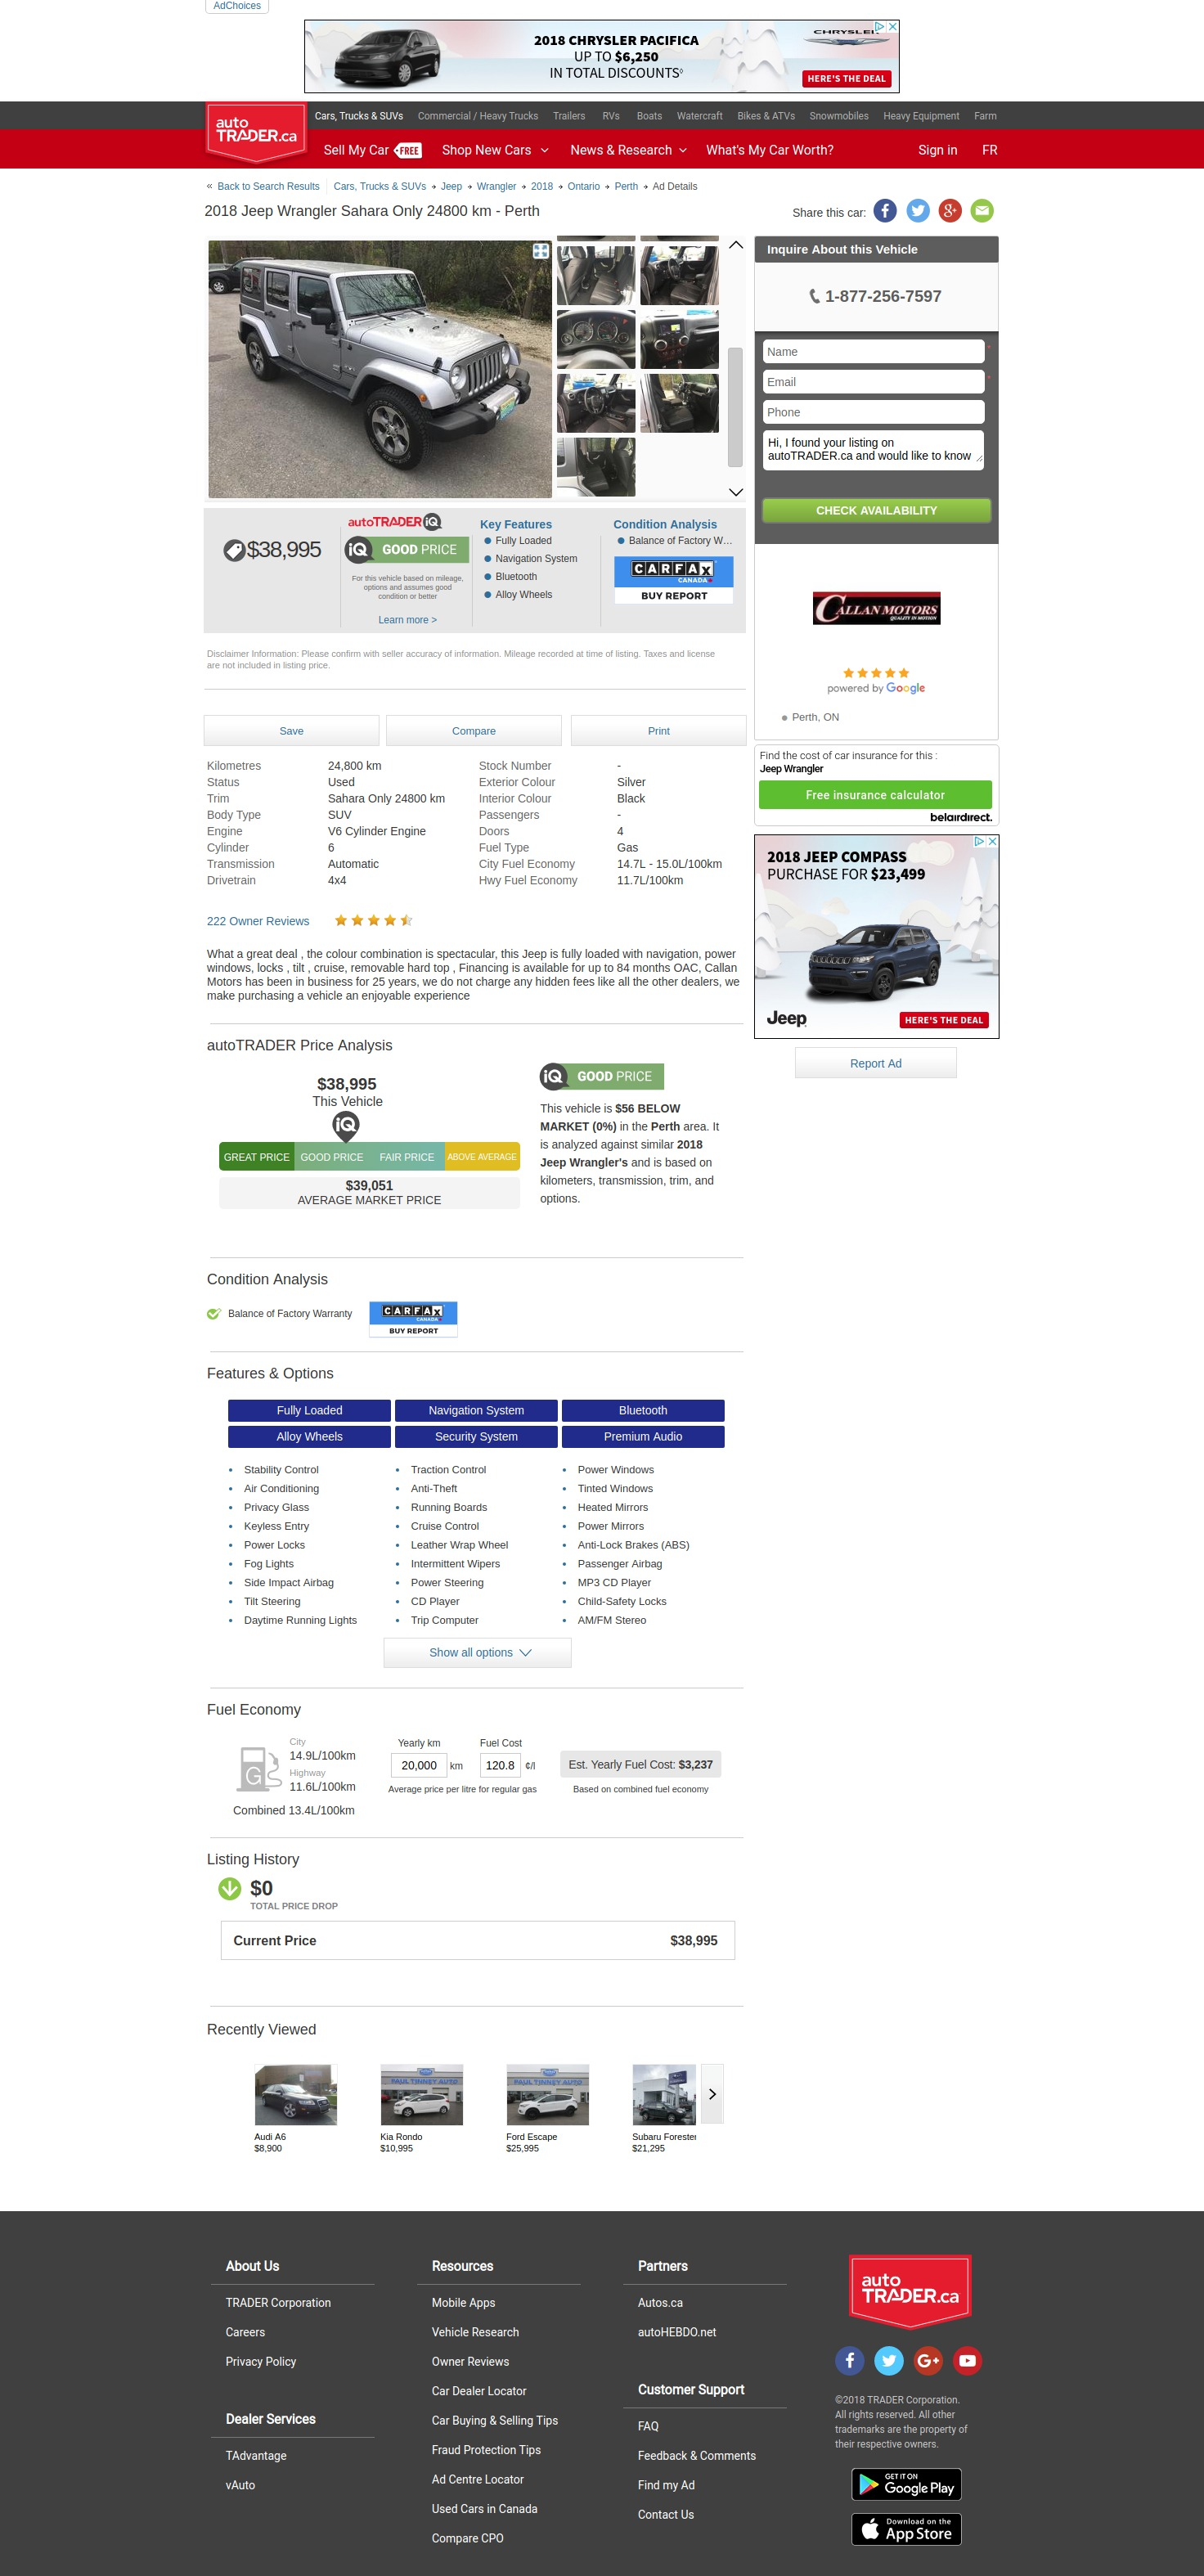car: (728, 485, 746, 498)
